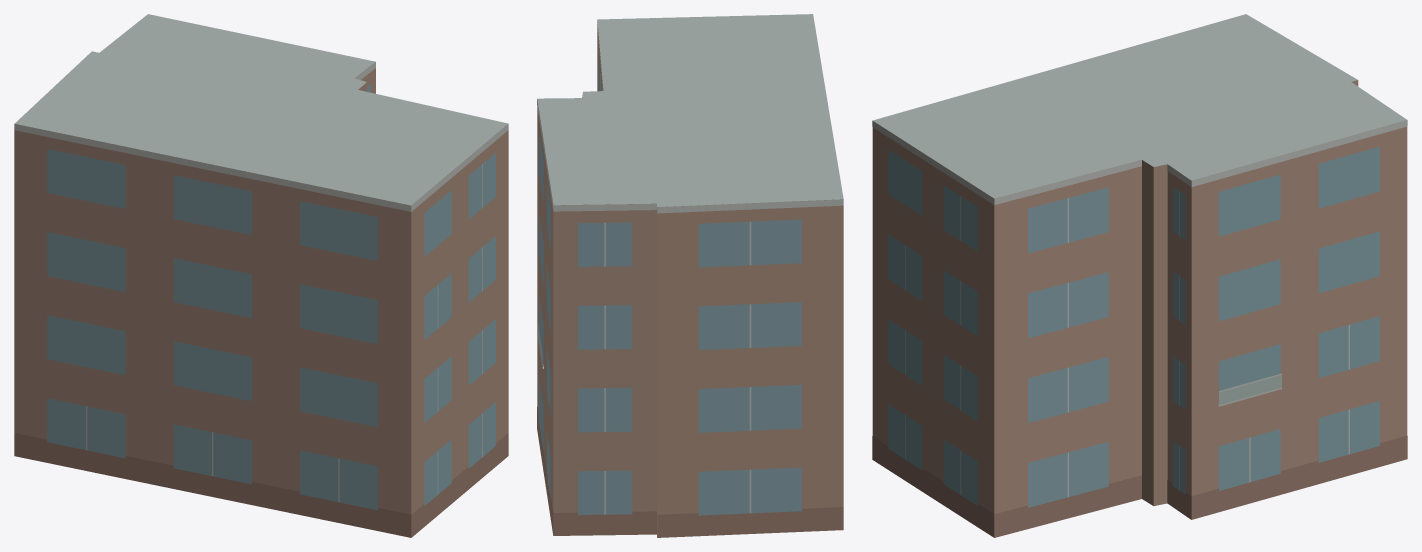
File: survey-upis-33019986.glb
3 renders of one model, left to right at view 1: azimuth 30°, elevation 25°; view 2: azimuth 150°, elevation 25°; view 3: azimuth 270°, elevation 25°, orthographic. The views are drawn at different scales.
Visible parts, largest first — view 1: survey-upis-33019986.tmp; view 2: survey-upis-33019986.tmp; view 3: survey-upis-33019986.tmp.
Part boxes in pixels (<box>): survey-upis-33019986.tmp: <box>14,14,508,537</box>; survey-upis-33019986.tmp: <box>537,14,843,537</box>; survey-upis-33019986.tmp: <box>872,14,1407,537</box>.
Bounding box in the file's own units: 14.84 × 12.7 × 18.16.
